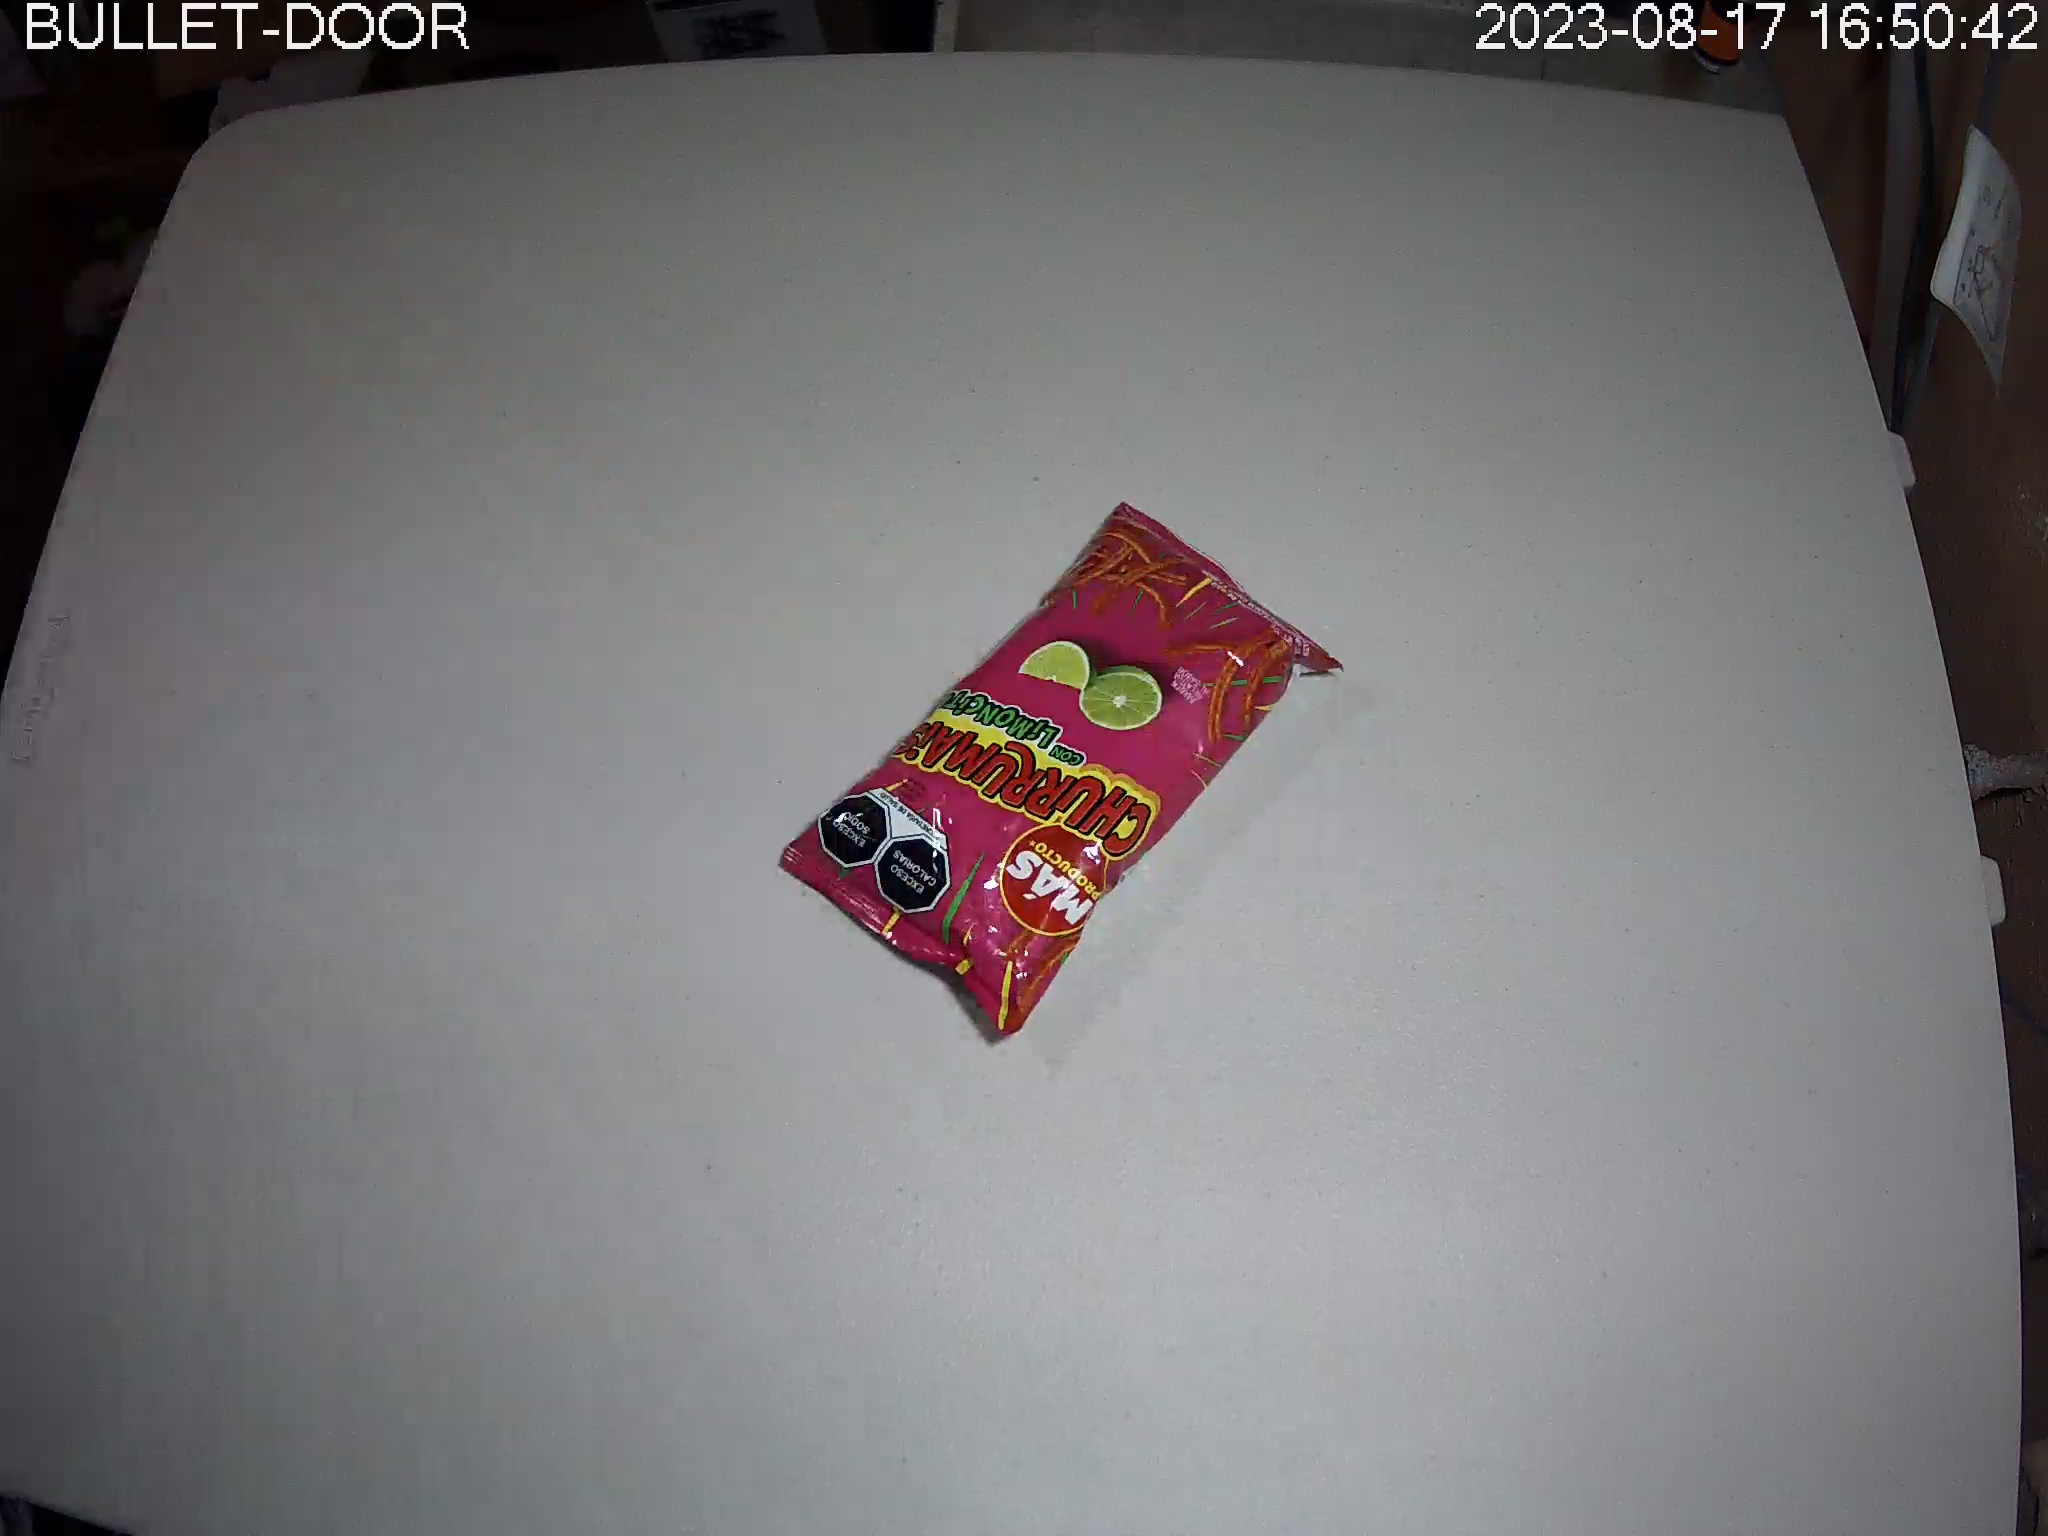Churrumais_70_F: (779, 503, 1343, 1042)
